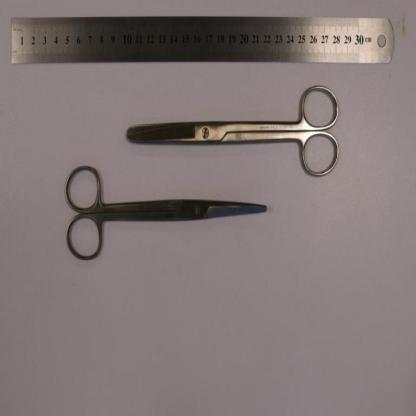Curved Mayo Scissors: (64, 164, 266, 262)
Dressing Scissors: (127, 82, 341, 179)
